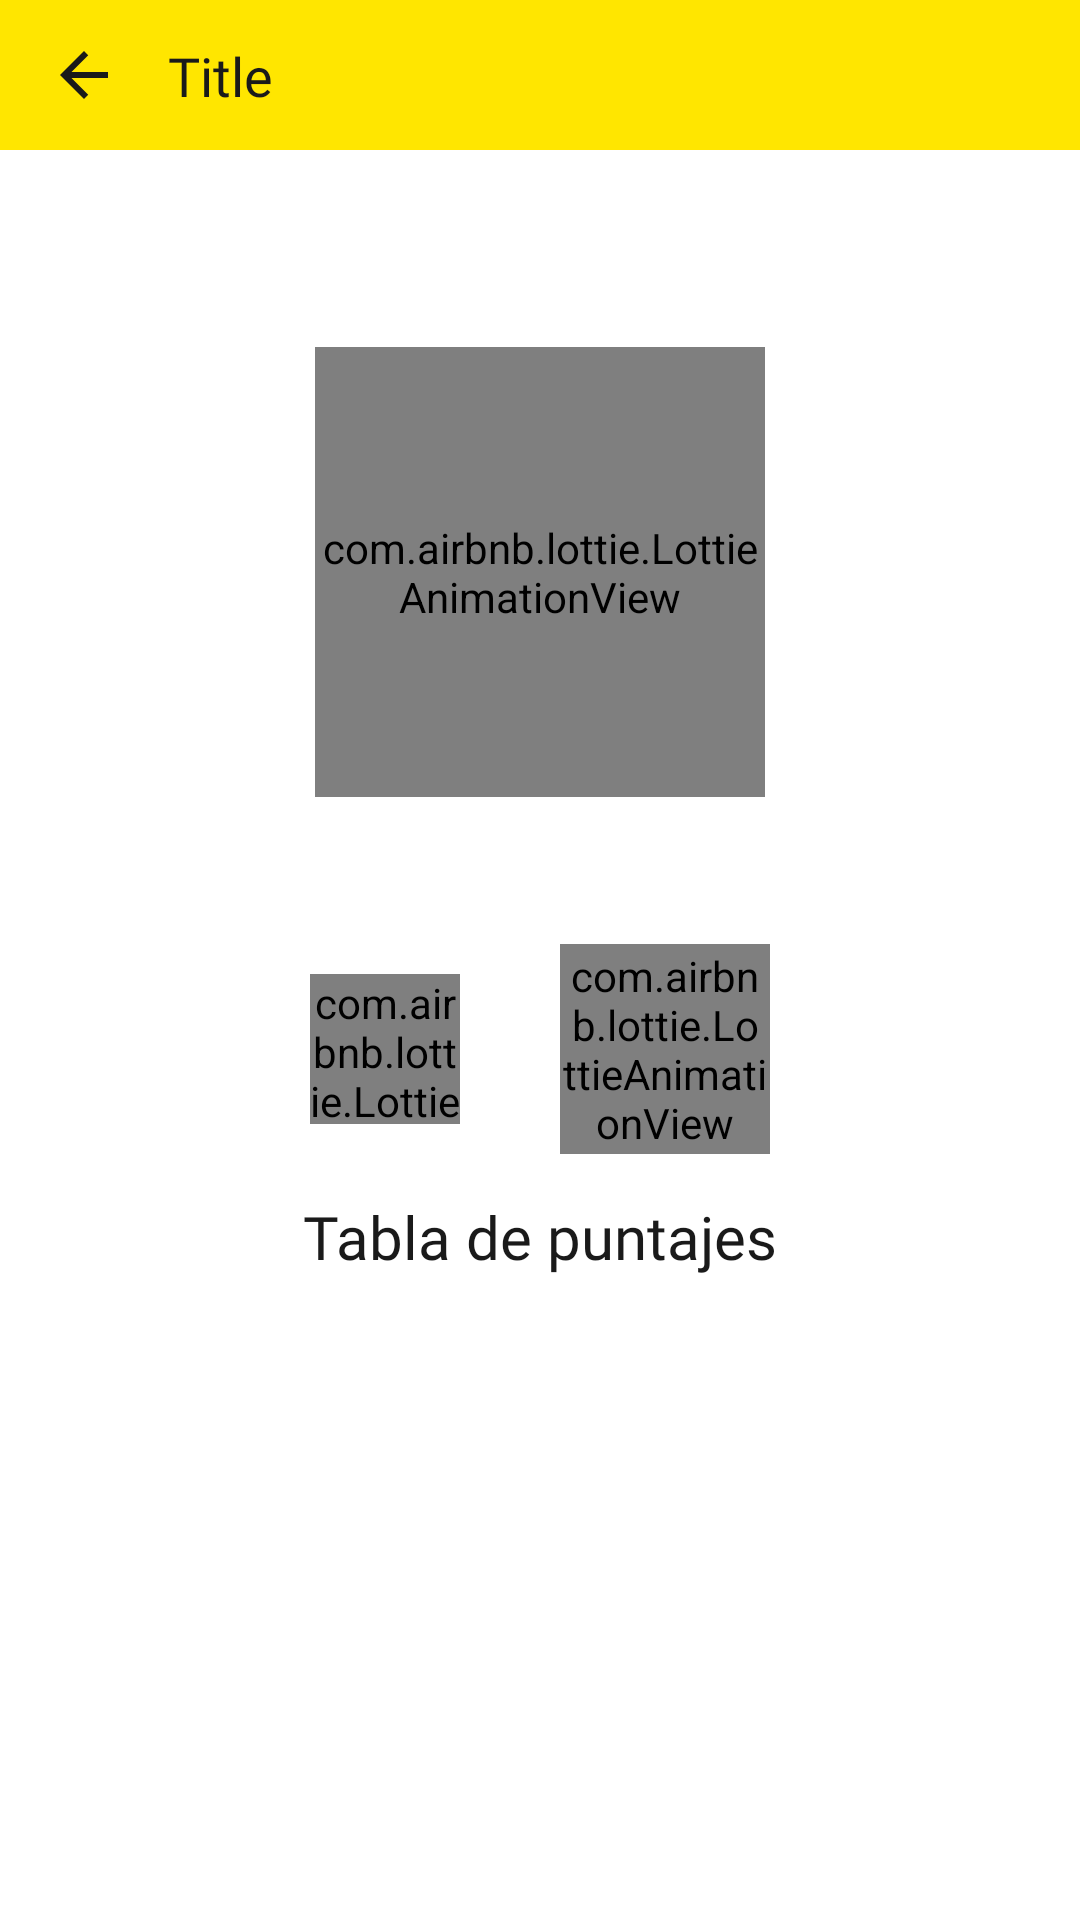

Where to tap for icons on this 1080x1920 app screen, as point (x, y):
arrow back: point (84, 75)
